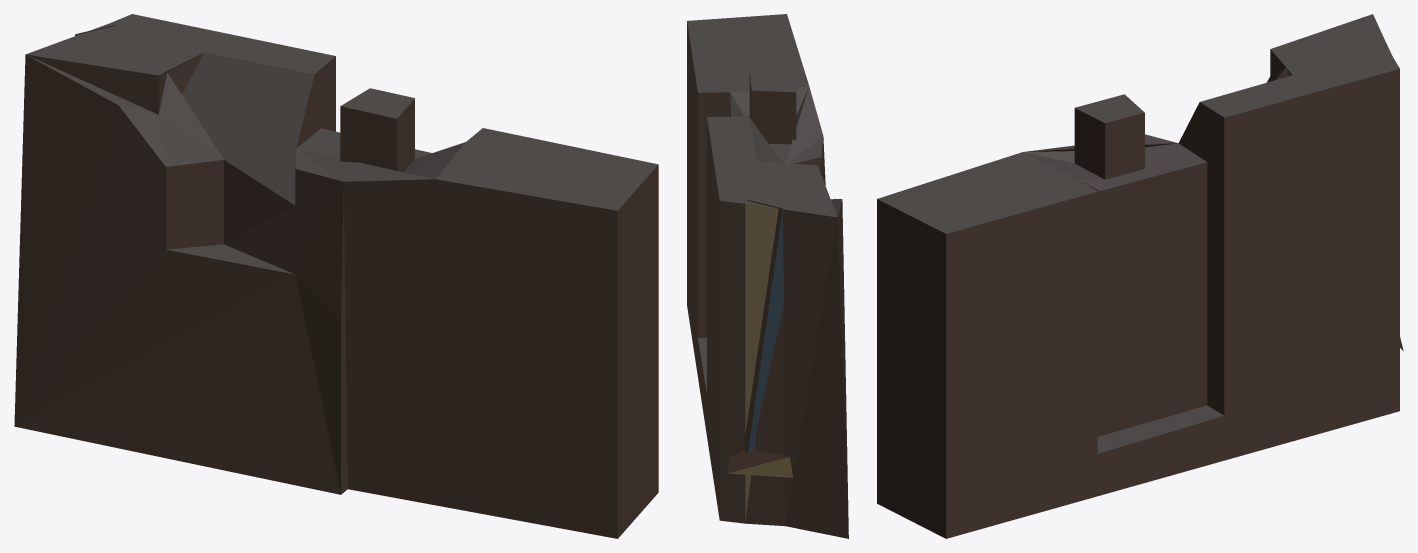
The model's file is batavia-prins-hendrikkade.lod2.glb.
3 renders of one model, left to right at view 1: azimuth 30°, elevation 25°; view 2: azimuth 150°, elevation 25°; view 3: azimuth 270°, elevation 25°, orthographic. The views are drawn at different scales.
Visible parts, largest first — view 1: lod2; view 2: lod2; view 3: lod2.
Boxes of the visible parts, box(x1,y1,x2,y2) form: lod2: box(14, 14, 658, 538); lod2: box(687, 14, 848, 538); lod2: box(877, 14, 1403, 538).
Size of the model in its own units: 25.26 by 21.54 by 29.88.
